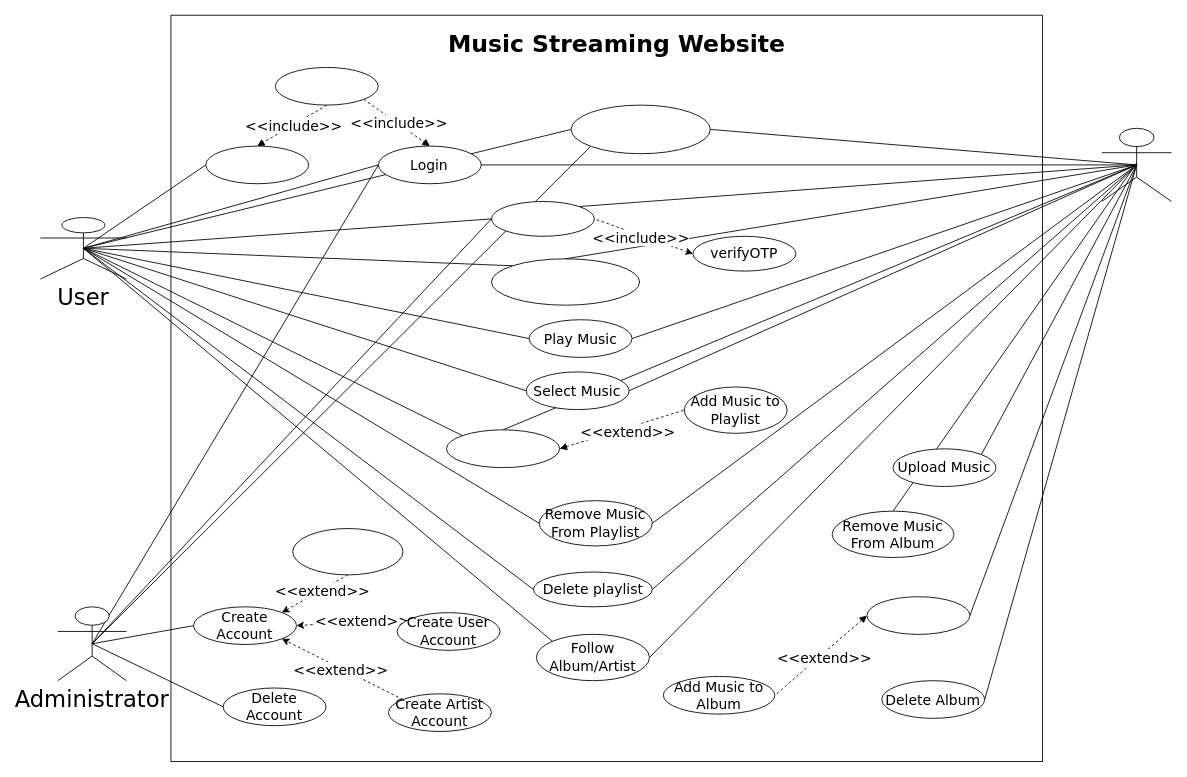
Image size: 1187x777. Some labels were removed from this diagram. The centre of each missing label's shape, as x and y in pixels:
"Artist" belongs at [1136,164].
"Authentication" belongs at [326,86].
"Create Admin Account" belongs at [347,551].
"Create Album" belongs at [918,615].
"Create Playlist" belongs at [503,448].
"Register" belongs at [257,164].
"Reset Password" belongs at [542,218].
"Search Music, Album, Artists" belongs at [565,281].
"Update Profile" belongs at [640,129].
